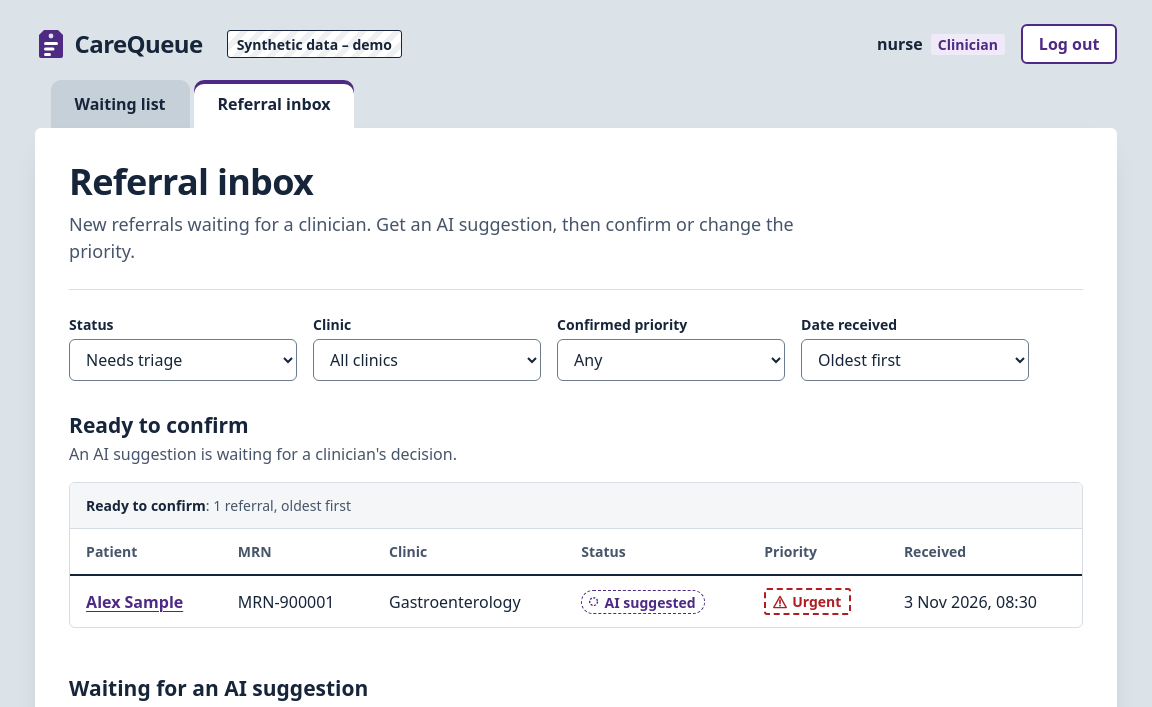
referral inbox › filters by status
Expected: the link "Alex Sample" is shown, [86,591,183,613]
Select "Triaged" in the dropdown labelled "Status" at [183, 360], box [69,339,297,381]
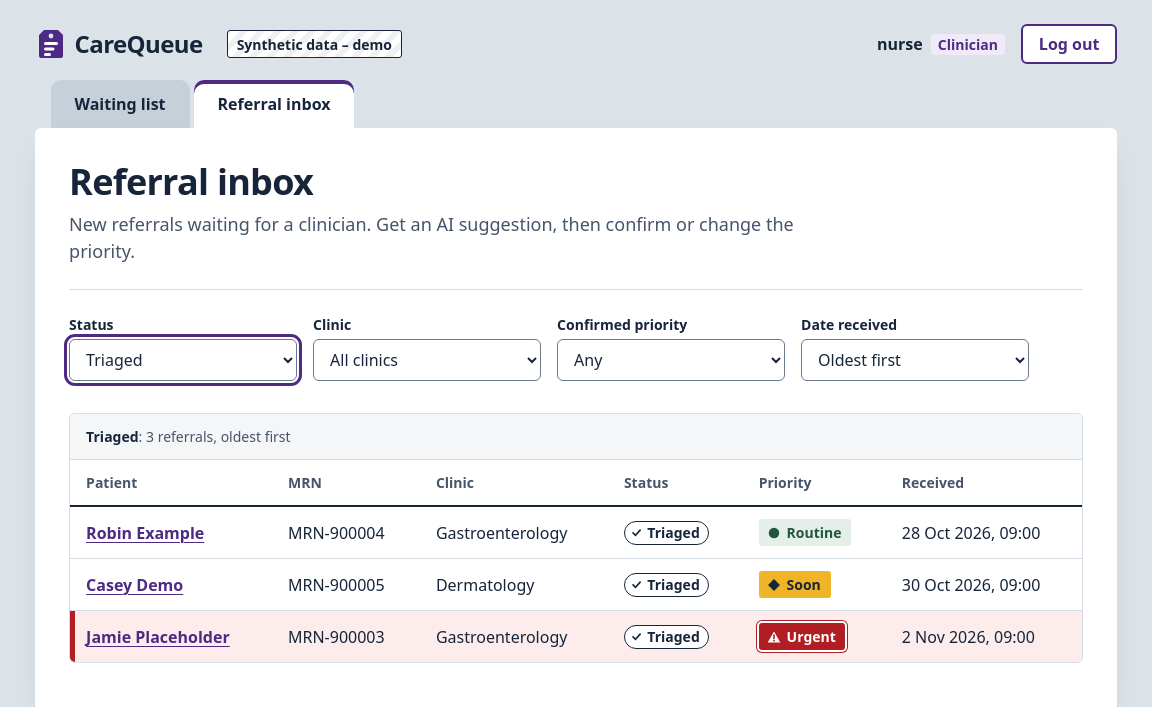
Expected: the link "Jamie Placeholder" is shown, [86,626,230,648]
Expected: the link "Casey Demo" is shown, [86,574,183,596]
Expected: the link "Alex Sample" is gone
